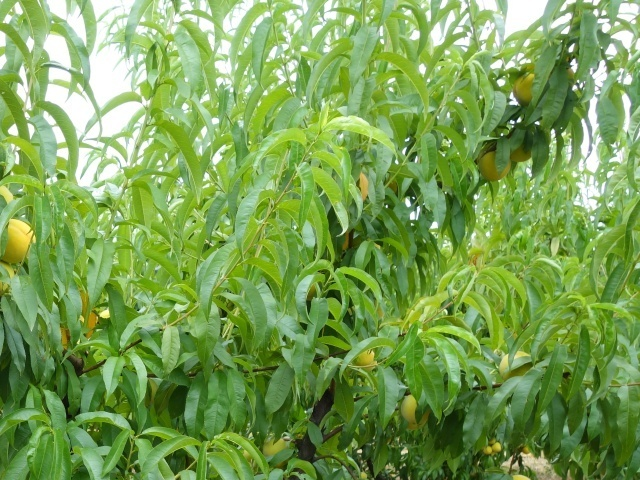peach: (1, 218, 38, 268), (476, 143, 515, 182), (494, 345, 534, 379), (512, 69, 545, 106), (506, 139, 537, 171), (398, 393, 427, 425), (260, 437, 292, 465), (357, 345, 382, 377)
